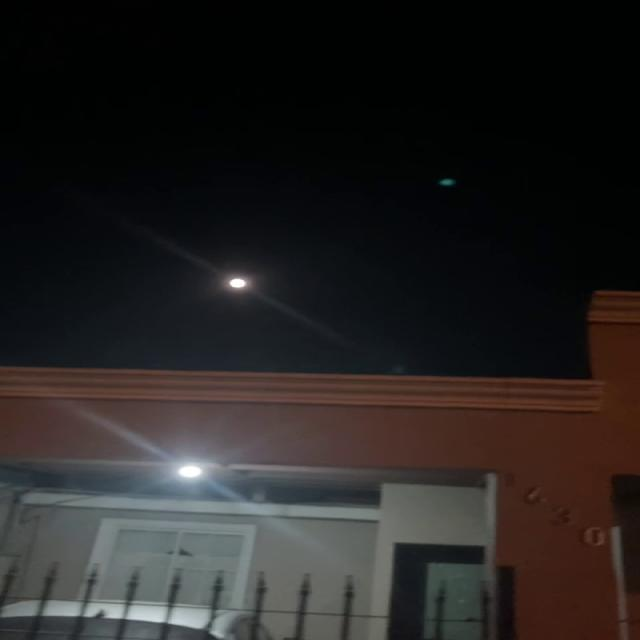moon: (226, 271, 255, 294)
